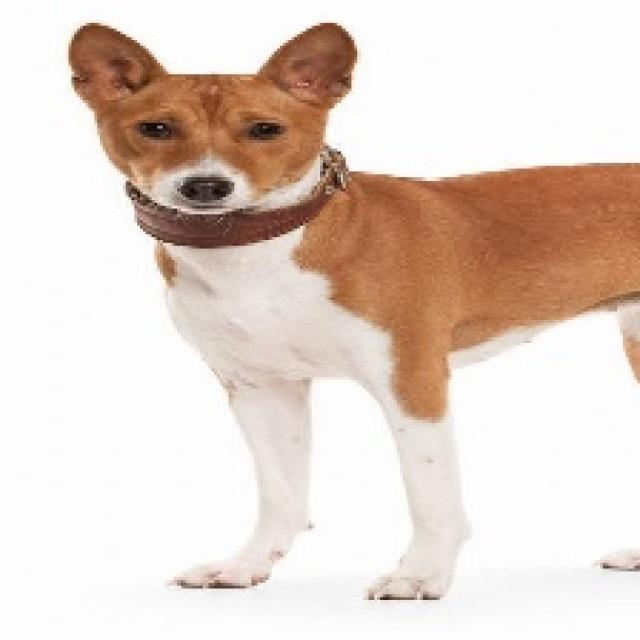cho khoe manh: (57, 8, 640, 606)
